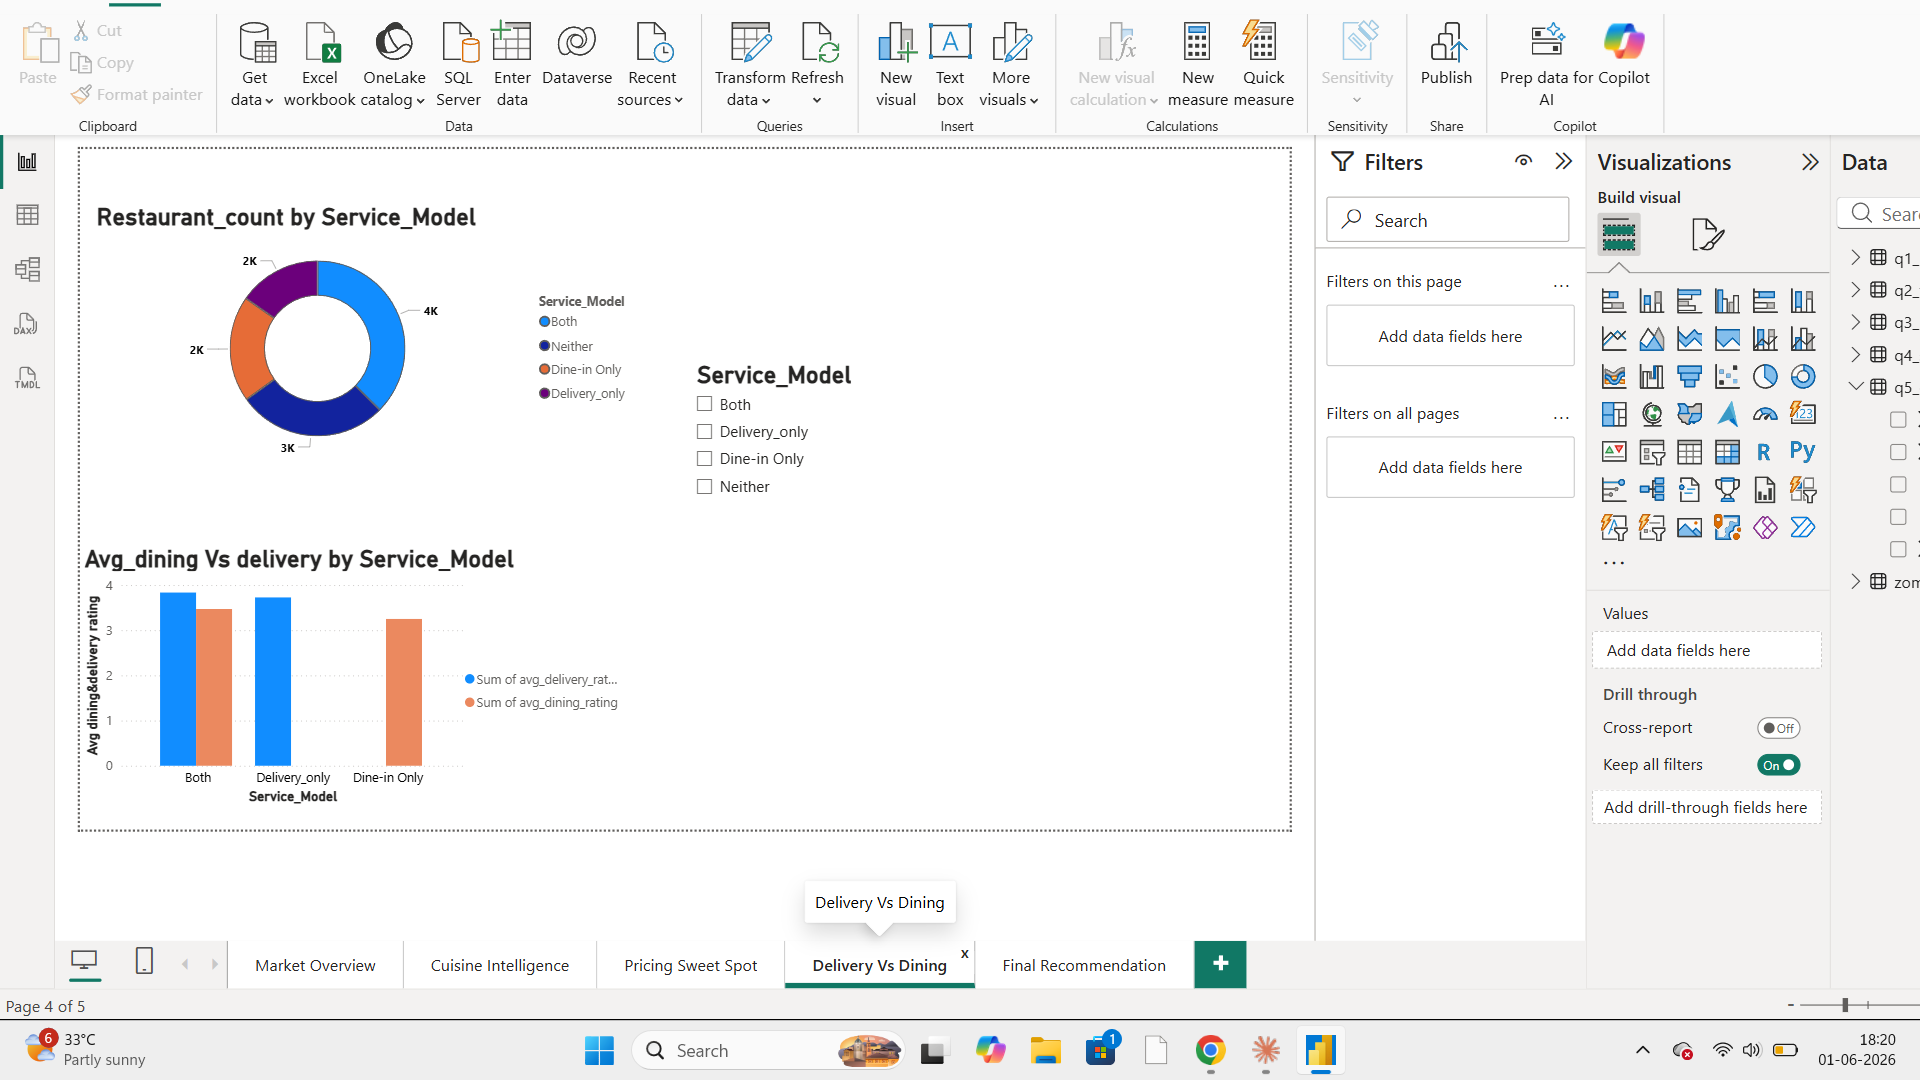

The page's visual inventory and layout, read from the dashboard file:
{"tool":"powerbi","page":{"name":"Delivery Vs Dining","canvas":[1280,720],"ordinal":3},"visuals":[{"type":"donutChart","title":" Restaurant_count by Service_Model","fields":{"Y":["Sum(q4_service_model csv.restaurant_count)"],"Category":["q4_service_model csv.Service_Model"]},"box":[12.3,57.6,584.6,279.9],"z":0},{"type":"clusteredColumnChart","title":"Avg_dining Vs delivery by Service_Model","fields":{"Category":["q4_service_model csv.Service_Model"],"Y":["Sum(q4_service_model csv.avg_delivery_rating)","Sum(q4_service_model csv.avg_dining_rating)"]},"box":[0,418.5,584.6,279.9],"z":1000},{"type":"slicer","fields":{"Values":["q4_service_model csv.Service_Model"]},"box":[639.5,219.6,584.6,279.9],"z":2000}]}

Visuals, with their boxes on the page's 1280x720 design canvas (x1, y1, x2, y2). These are canvas units, not pixel positions in the 1920x1080 screenshot, which may show the page scaled, cropped or inside an application window:
" Restaurant_count by Service_Model" donutChart: pyautogui.locateOnScreen(12, 58, 597, 338)
"Avg_dining Vs delivery by Service_Model" clusteredColumnChart: pyautogui.locateOnScreen(0, 418, 585, 698)
slicer - q4_service_model csv.Service_Model: pyautogui.locateOnScreen(640, 220, 1224, 500)
